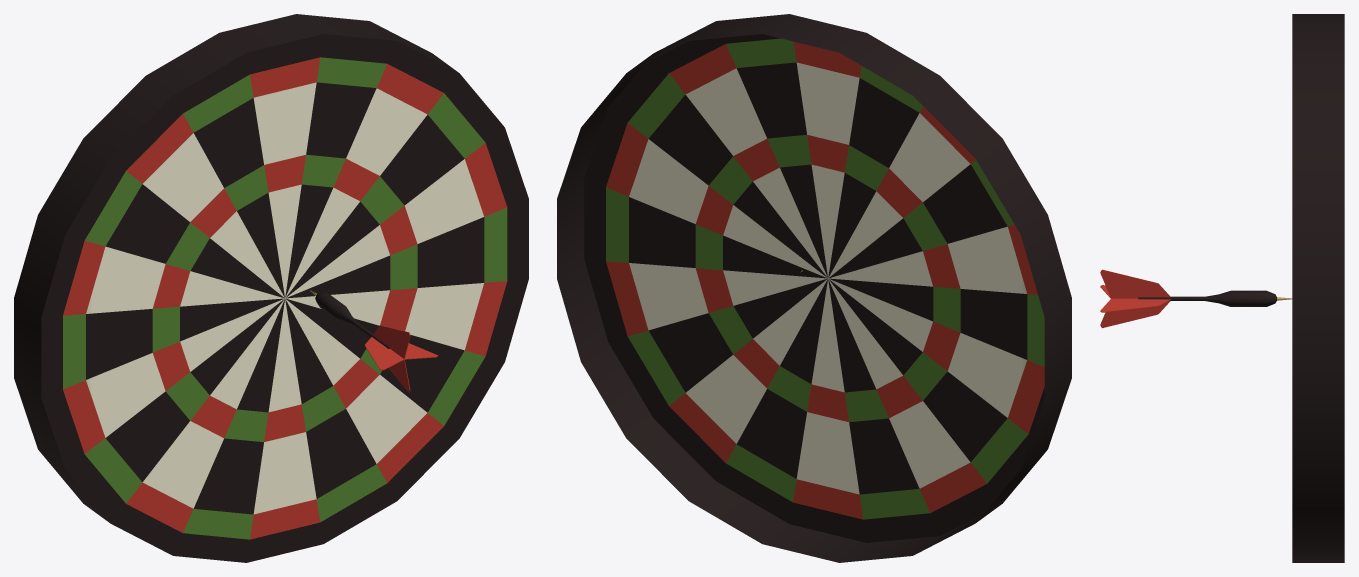
File: 47_prop_dart.FBX
3 views of the same model, side by side, from view 1: azimuth 30°, elevation 25°; view 2: azimuth 150°, elevation 25°; view 3: azimuth 270°, elevation 25° (orthographic). The views are drawn at different scales.
Visible parts, largest first — view 1: prop_dart1, prop_dart2; view 2: prop_dart1; view 3: prop_dart1, prop_dart2.
Part boxes in pixels (x1,y1,x2,y2): prop_dart1: [14, 14, 528, 562]; prop_dart2: [310, 290, 438, 392]; prop_dart1: [557, 14, 1071, 562]; prop_dart1: [1292, 14, 1344, 562]; prop_dart2: [1100, 269, 1292, 328].
Size of the model in its own units: 35.7 by 35.7 by 16.09.
